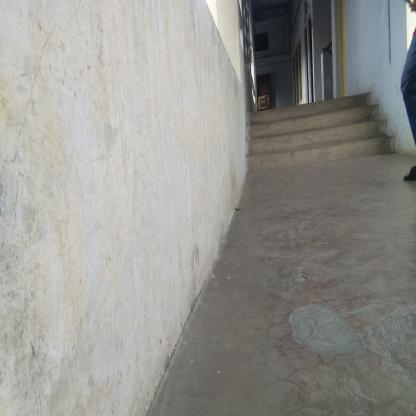stairs: (254, 94, 373, 174)
